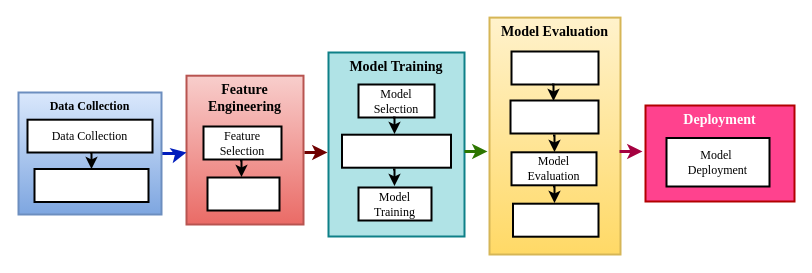
Some shapes in this 812 by 273 pixel diagram are drawn without their labels. Here are the shapes that lost their labels. From the top down, the centre of each, then its label:
At [554,67]: "Validation".
At [554,116]: "Performance Metrics".
At [396,150]: "Hyperparameter Tuning".
At [91,185]: "Data Preprocessing".
At [243,193]: "Feature Extraction".
At [555,219]: "Final Model".
